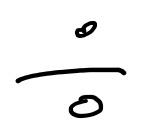div: (17, 19, 126, 116)
